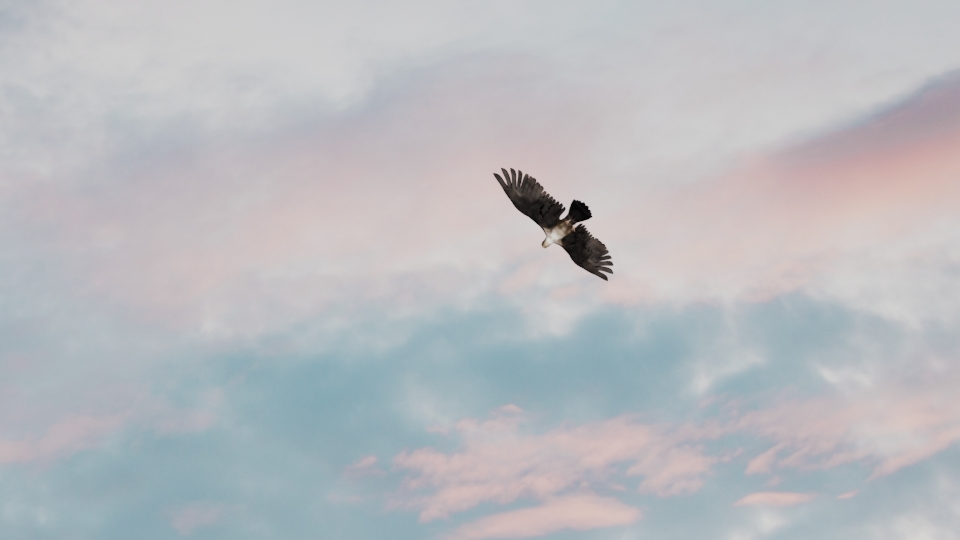bird: (492, 165, 620, 286)
